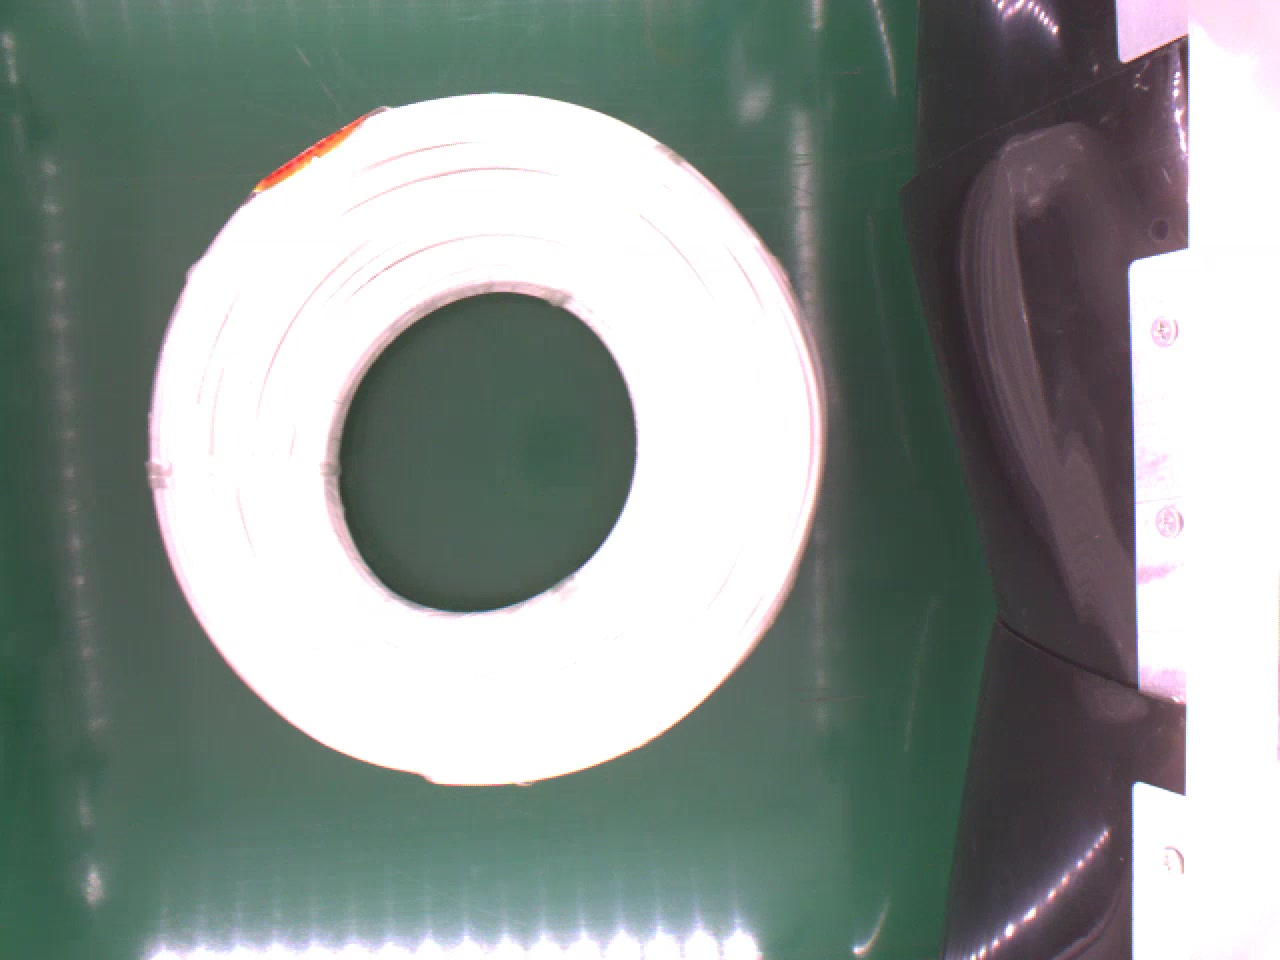white: (140, 87, 833, 797)
